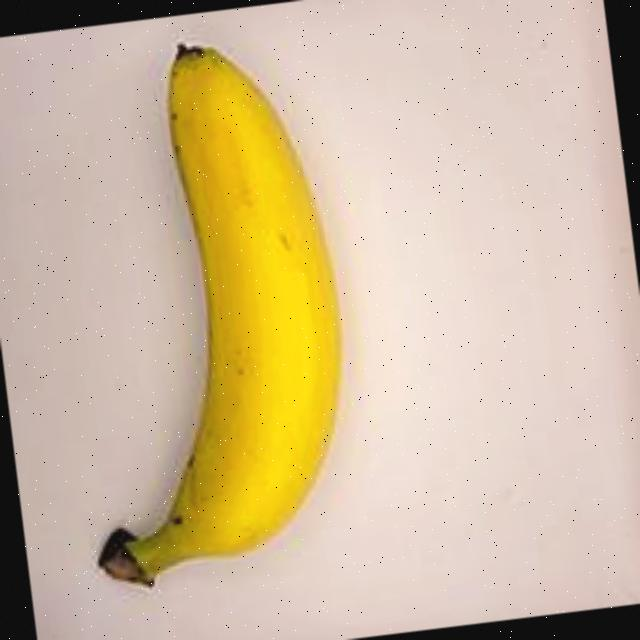Ripe: (17, 7, 406, 616)
